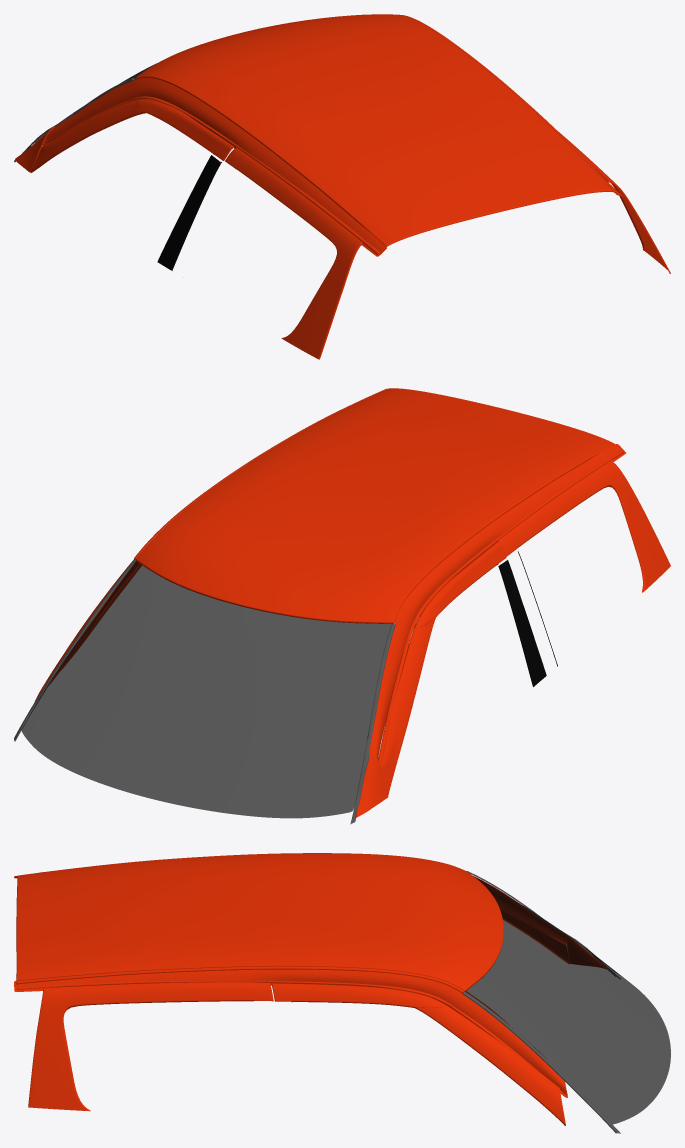
File: swift set.fbx
3 views of the same model, one above another, from view 1: azimuth 30°, elevation 25°; view 2: azimuth 150°, elevation 25°; view 3: azimuth 270°, elevation 25° (orthographic). The views are drawn at different scales.
Parts seen in each view (by area): view 1: swift.034, swift.050, swift.051, swift.016, swift.047, swift.046; view 2: swift.040, swift.034, swift.016, swift.051, swift.050, swift.047, swift.053, swift.060, swift.057; view 3: swift.034, swift.040, swift.046, swift.052, swift.032, swift.056, swift.051, swift.016, swift.057, swift.053.
Part boxes in pixels (bbox=[...]): swift.034: bbox=[134, 14, 616, 246]; swift.050: bbox=[171, 147, 362, 359]; swift.051: bbox=[44, 77, 386, 256]; swift.016: bbox=[31, 99, 234, 270]; swift.047: bbox=[42, 96, 379, 254]; swift.046: bbox=[557, 130, 670, 273]; swift.040: bbox=[21, 561, 393, 818]; swift.034: bbox=[134, 388, 615, 623]; swift.016: bbox=[380, 541, 546, 795]; swift.051: bbox=[370, 444, 625, 760]; swift.050: bbox=[497, 460, 670, 666]; swift.047: bbox=[378, 450, 623, 765]; swift.053: bbox=[355, 747, 388, 817]; swift.060: bbox=[350, 624, 395, 824]; swift.057: bbox=[14, 559, 136, 741]; swift.034: bbox=[16, 853, 503, 992]; swift.040: bbox=[465, 876, 670, 1124]; swift.046: bbox=[28, 982, 273, 1111]; swift.052: bbox=[14, 969, 567, 1096]; swift.032: bbox=[271, 983, 565, 1125]; swift.056: bbox=[17, 981, 567, 1097]; swift.051: bbox=[14, 876, 567, 942]; swift.016: bbox=[500, 910, 569, 963]; swift.057: bbox=[461, 991, 620, 1133]; swift.053: bbox=[565, 935, 606, 968].
Bounding box in the file's own units: 186 × 78.33 × 303.
